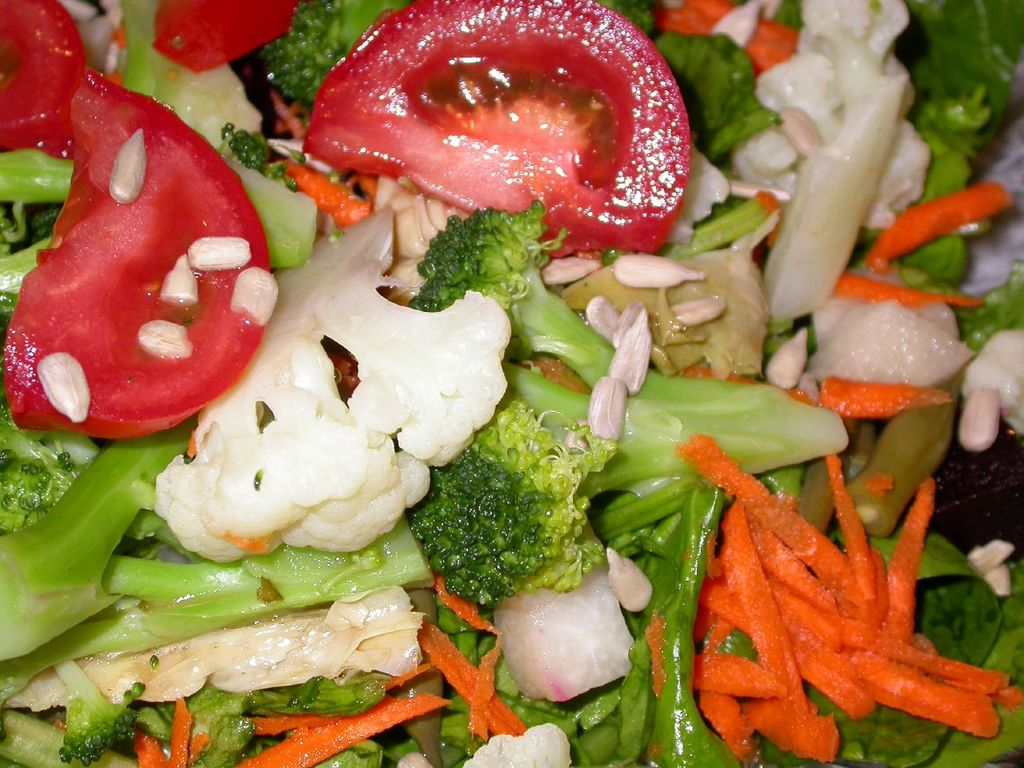Carrot: (671, 431, 1024, 768), (54, 574, 527, 768), (751, 187, 986, 313), (860, 177, 1015, 276), (683, 364, 956, 420), (648, 0, 800, 77), (267, 155, 371, 231), (642, 610, 669, 699), (223, 532, 270, 553), (111, 20, 129, 49), (186, 431, 199, 459), (108, 70, 120, 85)
